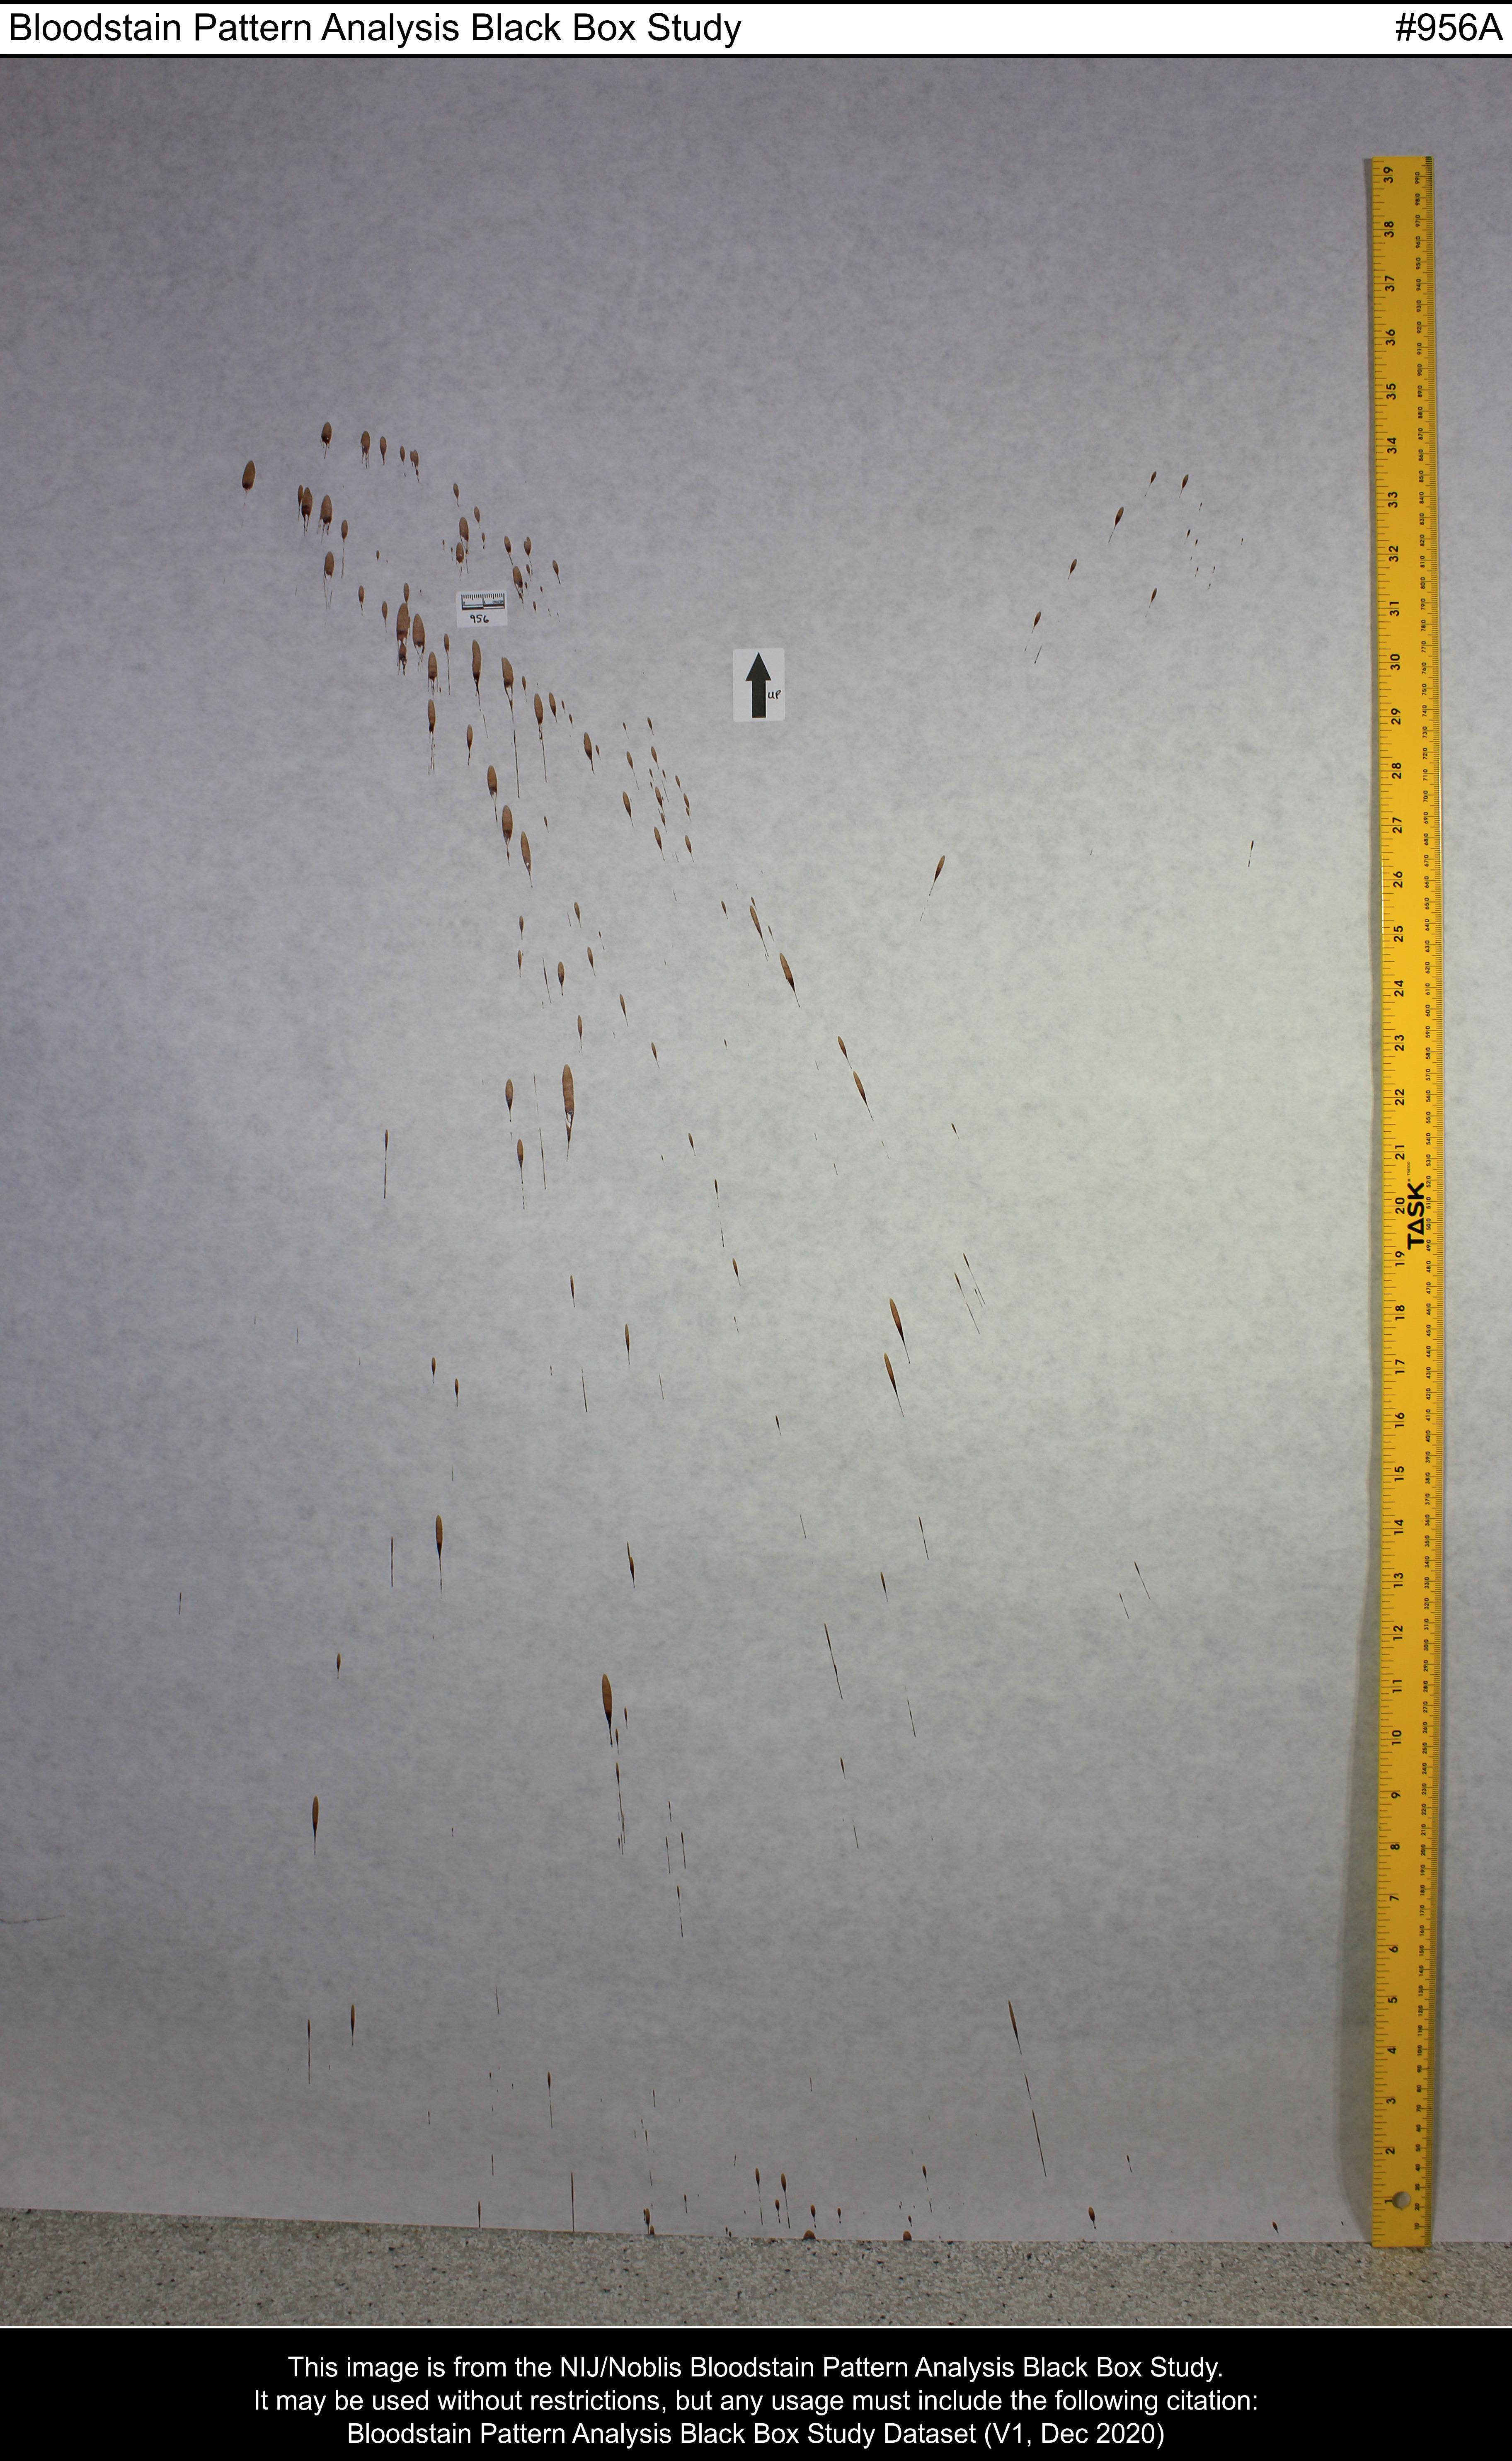Impact: (204, 374, 1296, 2232)
